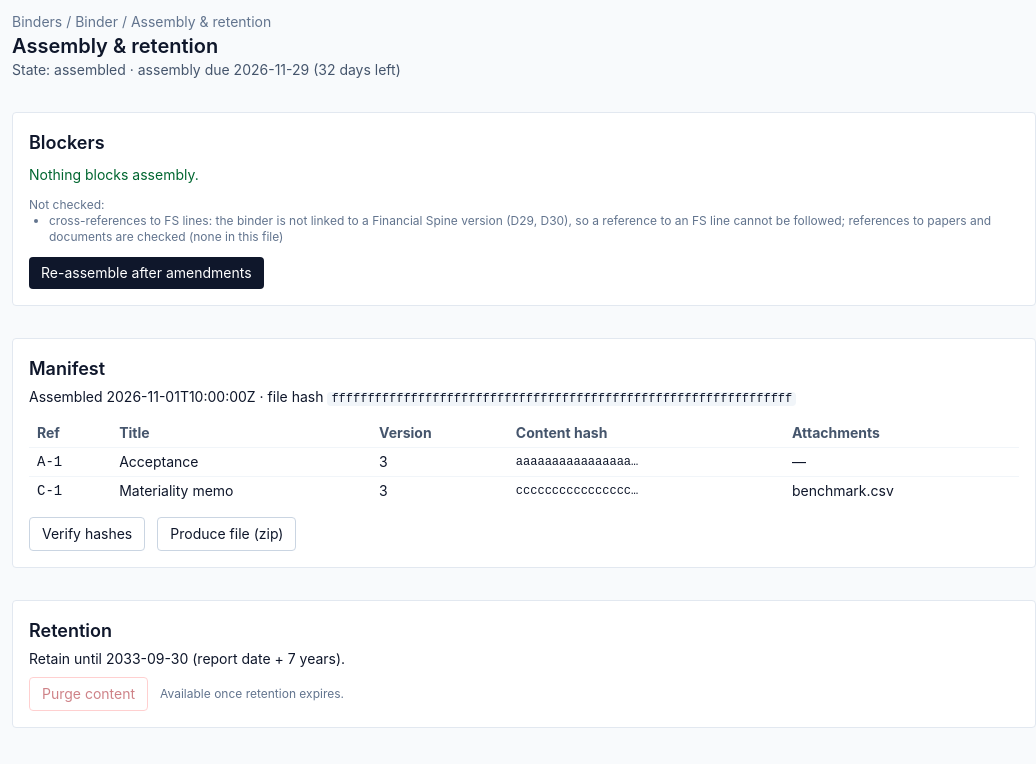
Test: an assembled file shows its manifest, hash, verification and produce link
Expected: the heading "Assembly & retention" is shown, [12,34,218,58]
Expected: the text with test id "state" reads "assembled", [54,61,126,78]
Click the button "Verify hashes" at x=87, y=534, box [29,517,145,551]
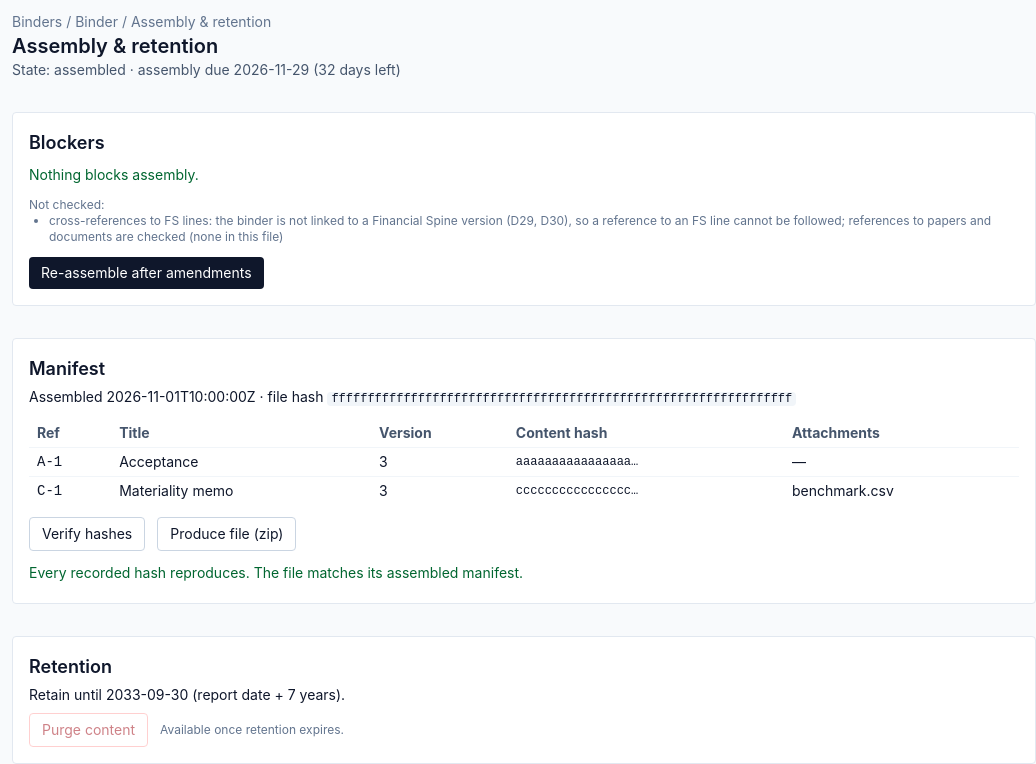
Expected: the element with test id "verification" shows "Every recorded hash reproduces.", [29,564,250,581]
